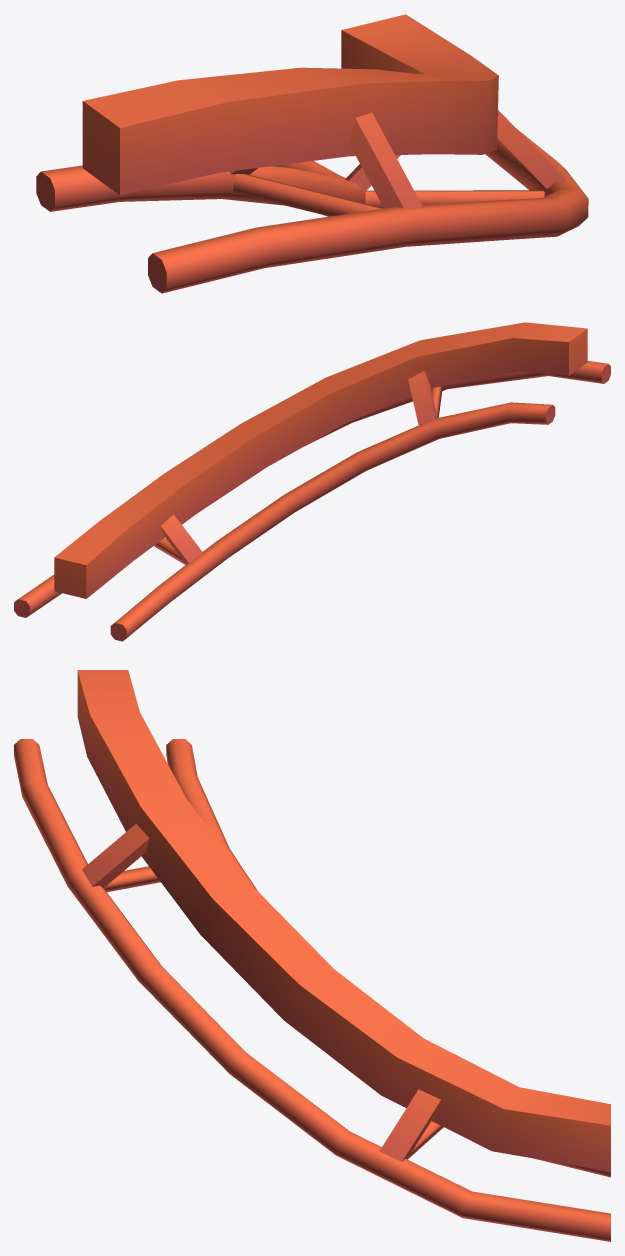
The model's file is coaster-hanging-corner-small-ramp.glb.
The picture shows the model from 3 angles, top to bottom: view 1: azimuth 30°, elevation 25°; view 2: azimuth 150°, elevation 25°; view 3: azimuth 270°, elevation 25°; orthographic projection. The views are drawn at different scales.
Visible parts, largest first — view 1: coaster-hanging-corner-small-ramp; view 2: coaster-hanging-corner-small-ramp; view 3: coaster-hanging-corner-small-ramp.
Boxes of the visible parts, bbox=[...] form: coaster-hanging-corner-small-ramp: bbox=[36, 14, 588, 293]; coaster-hanging-corner-small-ramp: bbox=[14, 322, 610, 641]; coaster-hanging-corner-small-ramp: bbox=[14, 670, 610, 1241].
Size of the model in its own units: 2.35 by 1.4 by 2.35.
Materials: 1 (1 with a texture image).
